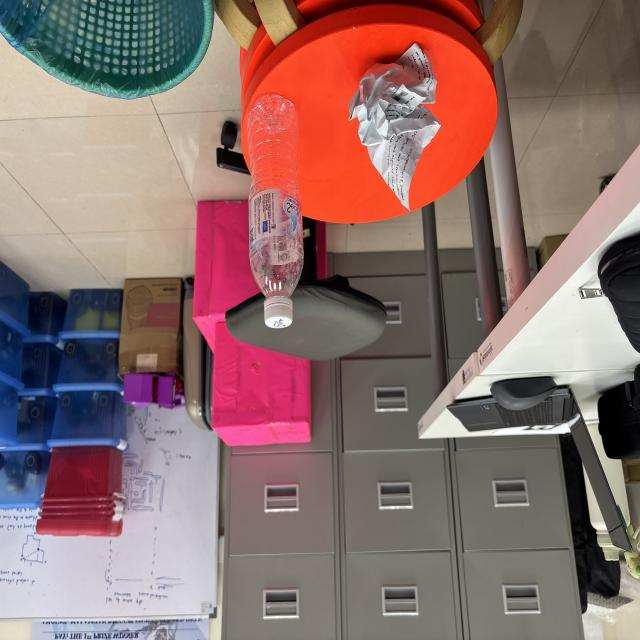crumpled_paper: (342, 36, 446, 219)
plastic_bottle: (242, 90, 310, 337)
